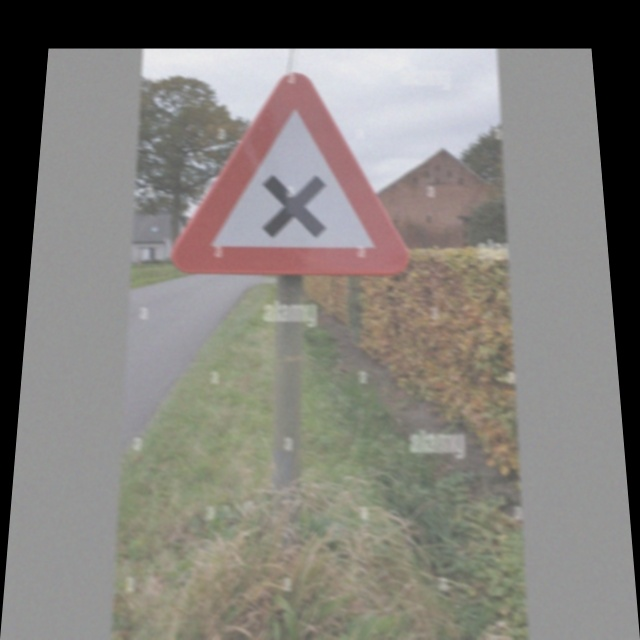Cross_Road: (181, 66, 400, 275)
